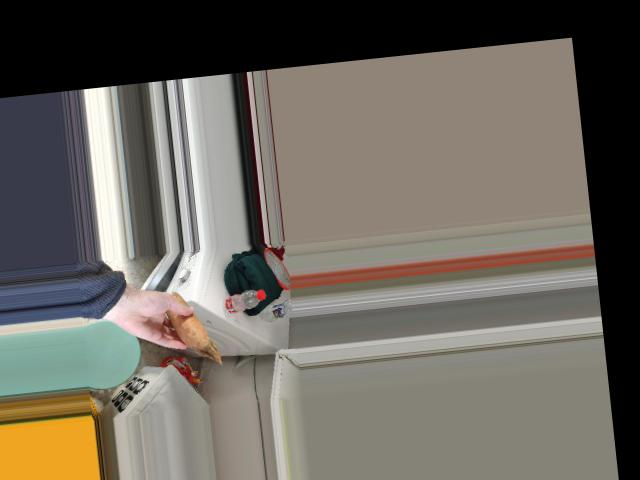sweet_potato: (162, 297, 208, 348)
